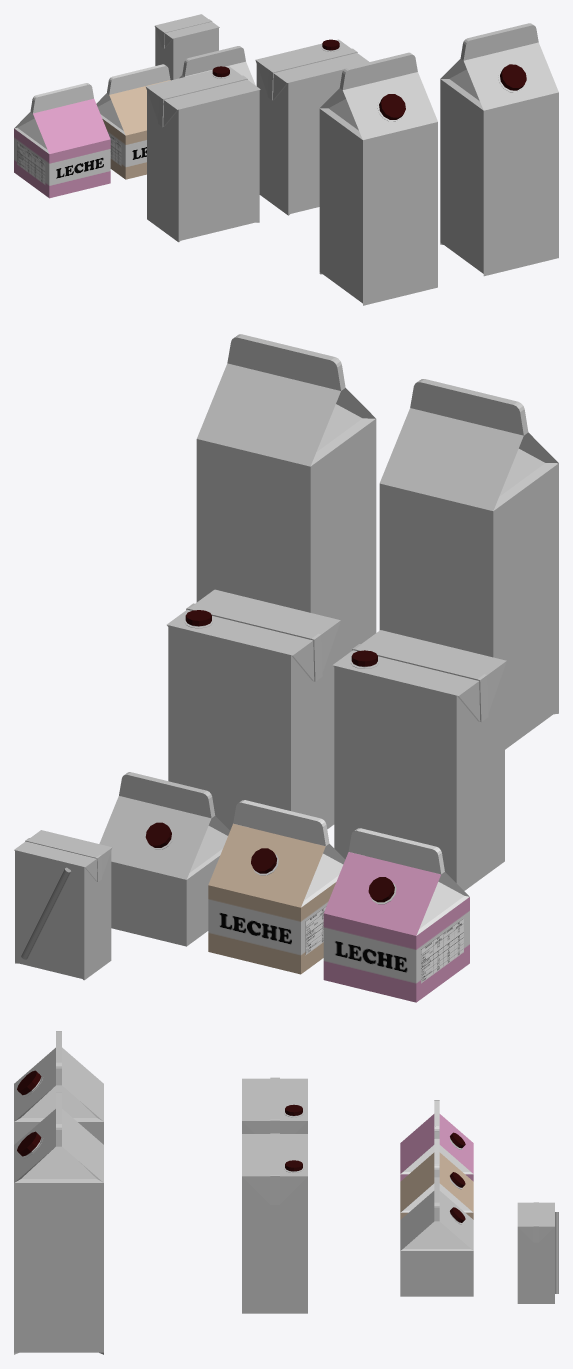
File: jugostetrapak.obj
The picture shows the model from 3 angles, top to bottom: view 1: azimuth 30°, elevation 25°; view 2: azimuth 150°, elevation 25°; view 3: azimuth 270°, elevation 25°; orthographic projection. The views are drawn at different scales.
Parts seen in each view (by area): view 1: Cylinder.001; view 2: Cylinder.001; view 3: Cylinder.001.
Part boxes in pixels (bbox=[...]): Cylinder.001: bbox=[14, 14, 558, 305]; Cylinder.001: bbox=[14, 334, 558, 1002]; Cylinder.001: bbox=[14, 1031, 558, 1354].
Size of the model in its own units: 2.53 by 1.64 by 3.57.
